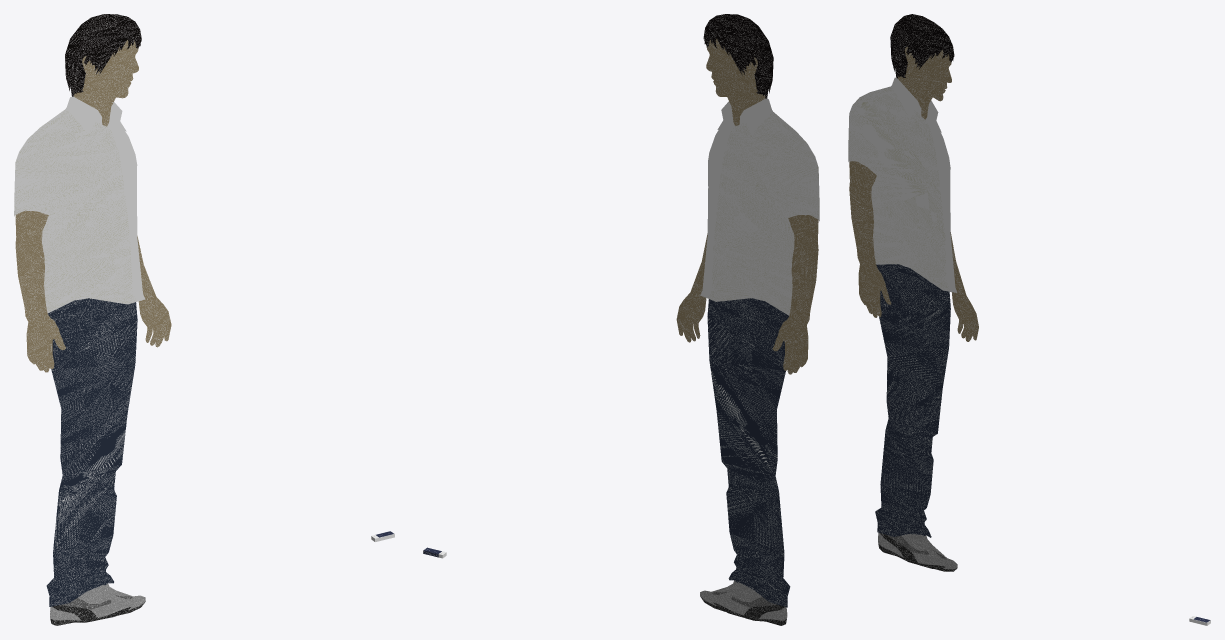
The model's file is eraser.dae.
3 views of the same model, side by side, from view 1: azimuth 30°, elevation 25°; view 2: azimuth 150°, elevation 25°; view 3: azimuth 330°, elevation 25° (orthographic). The views are drawn at different scales.
Visible parts, largest first — view 1: Sang (×10); view 2: Sang (×10); view 3: Sang (×10).
Boxes of the visible parts, <box> form: Sang (×10): <box>14,14,171,625</box>; Sang (×10): <box>676,14,819,625</box>; Sang (×10): <box>848,14,978,571</box>.
Bounding box in the file's own units: 46.45 × 3.68 × 69.24.
